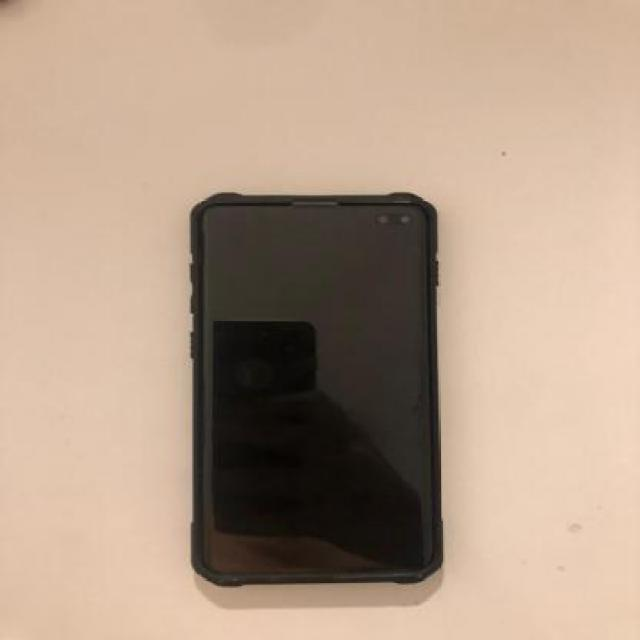phone: (184, 188, 450, 590)
